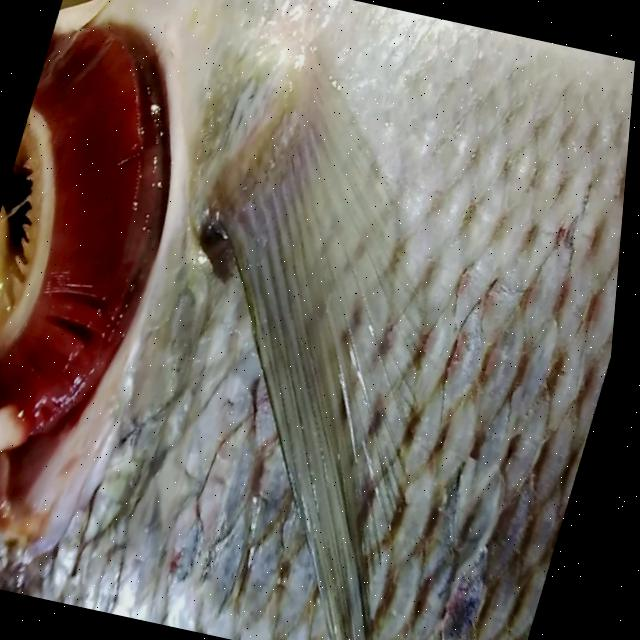Fresh: (0, 0, 226, 510)
